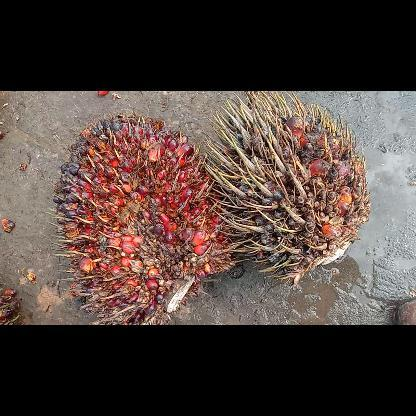TBS abnormal: (206, 90, 370, 288)
TBS masak: (51, 112, 235, 324)
